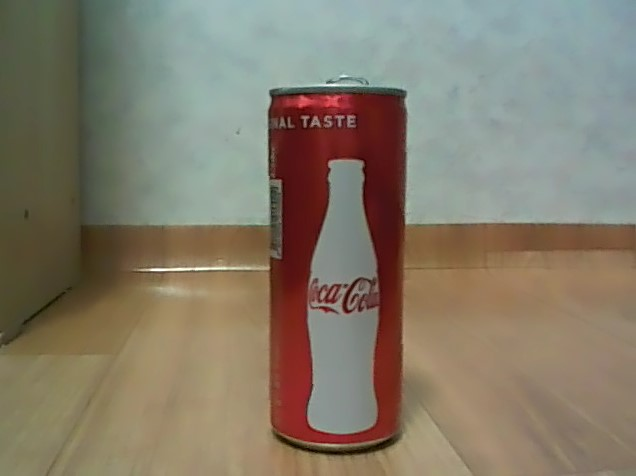Can: (255, 69, 413, 458)
